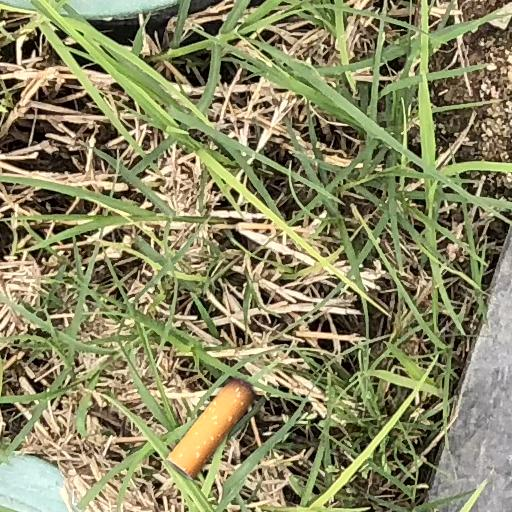smoke: (167, 379, 255, 479)
